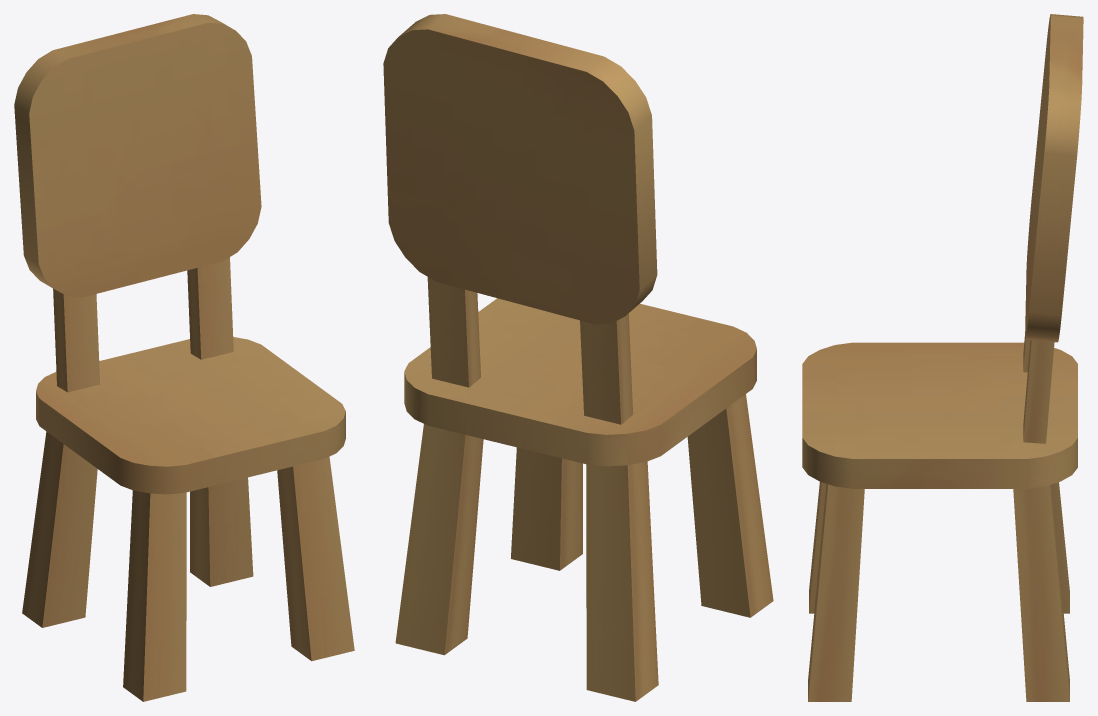
File: kursipel1.fbx
3 views of the same model, side by side, from view 1: azimuth 30°, elevation 25°; view 2: azimuth 150°, elevation 25°; view 3: azimuth 270°, elevation 25° (orthographic). The views are drawn at different scales.
Parts seen in each view (by area): view 1: kursi full; view 2: kursi full; view 3: kursi full.
Boxes of the visible parts, left/top/right/bottom form: kursi full: left=14, top=14, right=354, bottom=701; kursi full: left=383, top=14, right=773, bottom=701; kursi full: left=802, top=14, right=1083, bottom=701.
Bounding box in the file's own units: 202 × 478 × 204.
